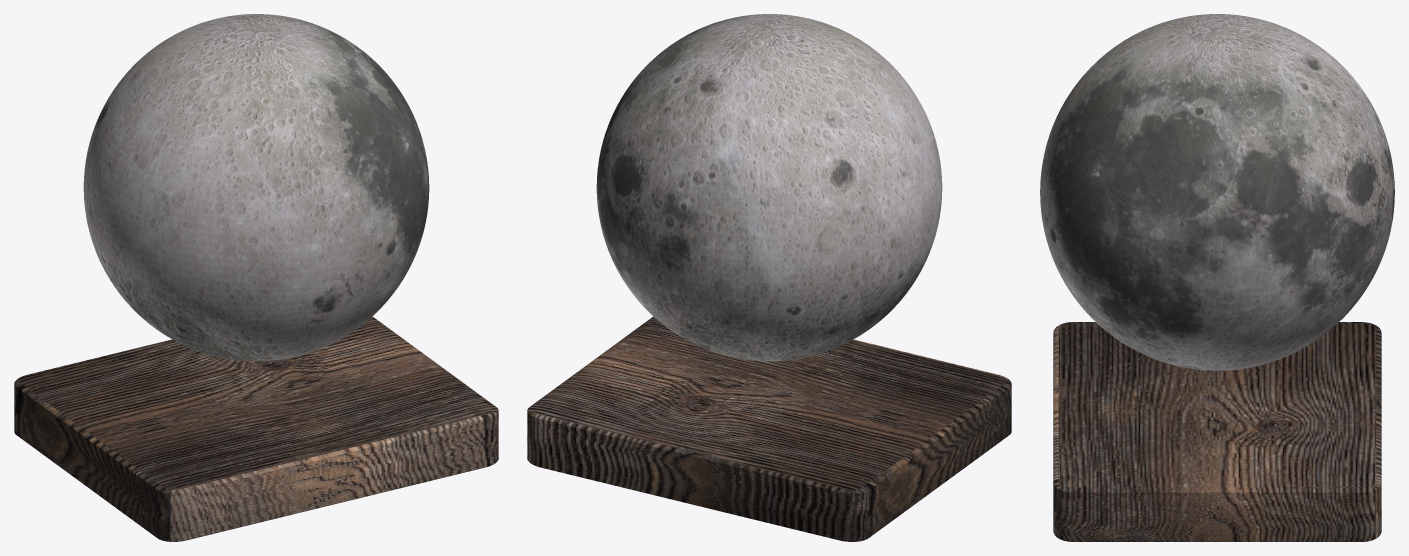
The model's file is moon.glb.
3 renders of one model, left to right at view 1: azimuth 30°, elevation 25°; view 2: azimuth 150°, elevation 25°; view 3: azimuth 270°, elevation 25°, orthographic. The views are drawn at different scales.
Visible parts, largest first — view 1: Sphere, Cube; view 2: Sphere, Cube; view 3: Sphere, Cube.
Boxes of the visible parts, box(x1,y1,x2,y2) form: Sphere: box(83, 14, 429, 361); Cube: box(14, 316, 498, 541); Sphere: box(596, 14, 942, 361); Cube: box(527, 316, 1011, 541); Sphere: box(1040, 14, 1394, 370); Cube: box(1053, 322, 1381, 541).
Bounding box in the file's own units: 13.18 × 15.52 × 11.61.
2 materials, 2 textured.
